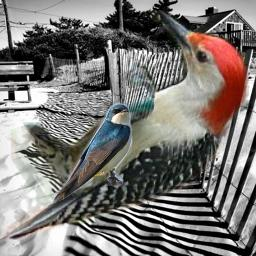Swallow: (50, 100, 136, 203)
Woodpecker: (2, 10, 249, 240)
